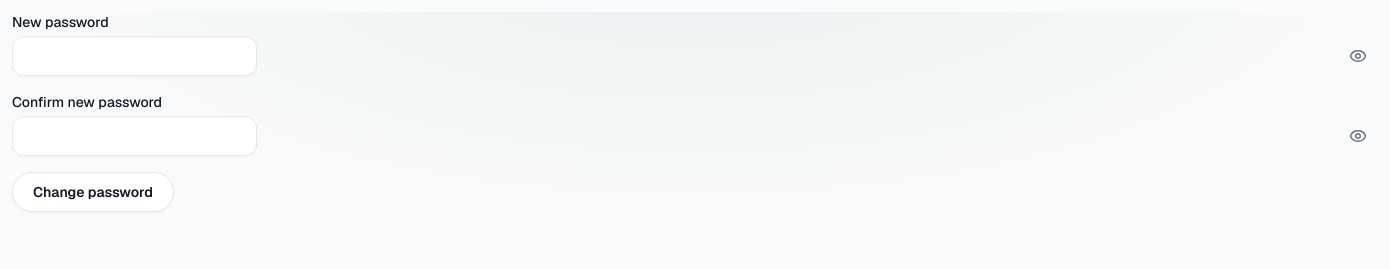
ChangePasswordForm › rejects a blank password
Click the button "Change password": x=93, y=192 [12, 172, 174, 212]
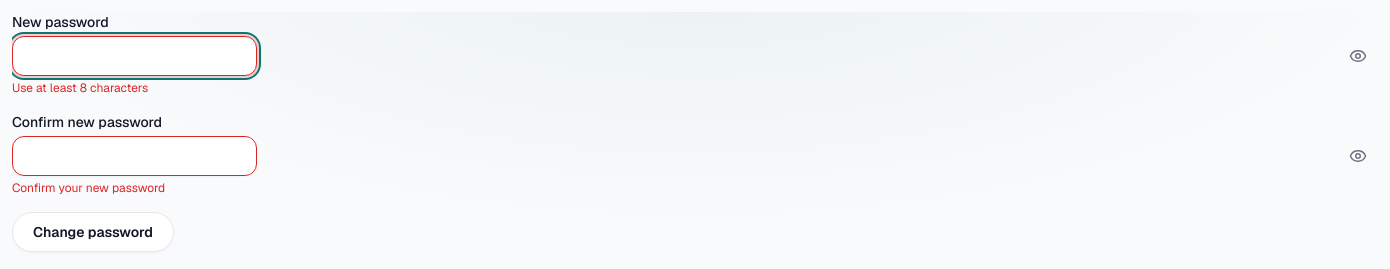
Expected: the text "Use at least 8 characters" is shown, [12, 80, 148, 96]
